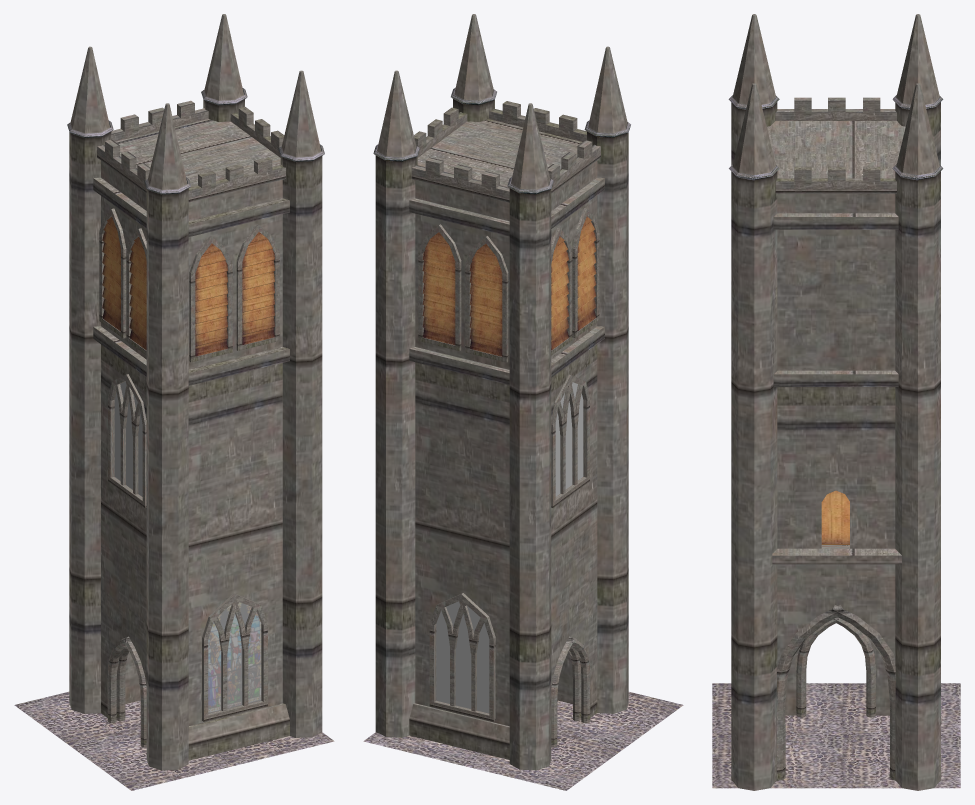
The model's file is ChurchEntrance.obj.
3 renders of one model, left to right at view 1: azimuth 30°, elevation 25°; view 2: azimuth 150°, elevation 25°; view 3: azimuth 270°, elevation 25°, orthographic. The views are drawn at different scales.
Parts seen in each view (by area): view 1: churchWall, floor, cobble, grill, stainglass, fadewood; view 2: churchWall, floor, cobble, grill, fadewood; view 3: churchWall, cobble, floor, fadewood.
Part boxes in pixels (left/top/right/bottom): churchWall: left=69, top=14, right=322, bottom=770; floor: left=102, top=217, right=274, bottom=356; cobble: left=14, top=691, right=334, bottom=790; grill: left=114, top=381, right=261, bottom=713; stainglass: left=209, top=602, right=260, bottom=712; fadewood: left=67, top=88, right=324, bottom=194; churchWall: left=375, top=14, right=628, bottom=770; floor: left=422, top=216, right=596, bottom=356; cobble: left=363, top=691, right=683, bottom=790; grill: left=436, top=382, right=583, bottom=713; fadewood: left=373, top=88, right=630, bottom=194; churchWall: left=731, top=14, right=940, bottom=790; cobble: left=712, top=683, right=960, bottom=788; floor: left=821, top=490, right=849, bottom=544; fadewood: left=728, top=95, right=943, bottom=180.
Size of the model in its own units: 78.84 by 235 by 76.
